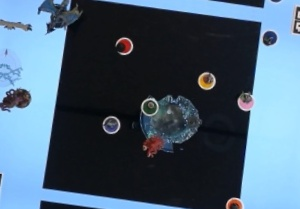blue: (262, 28, 282, 48)
green: (138, 92, 163, 119)
orange: (224, 193, 246, 209)
pink: (231, 87, 258, 114)
red: (114, 35, 136, 57)
violet: (98, 112, 124, 135)
yellow: (196, 69, 219, 94)
